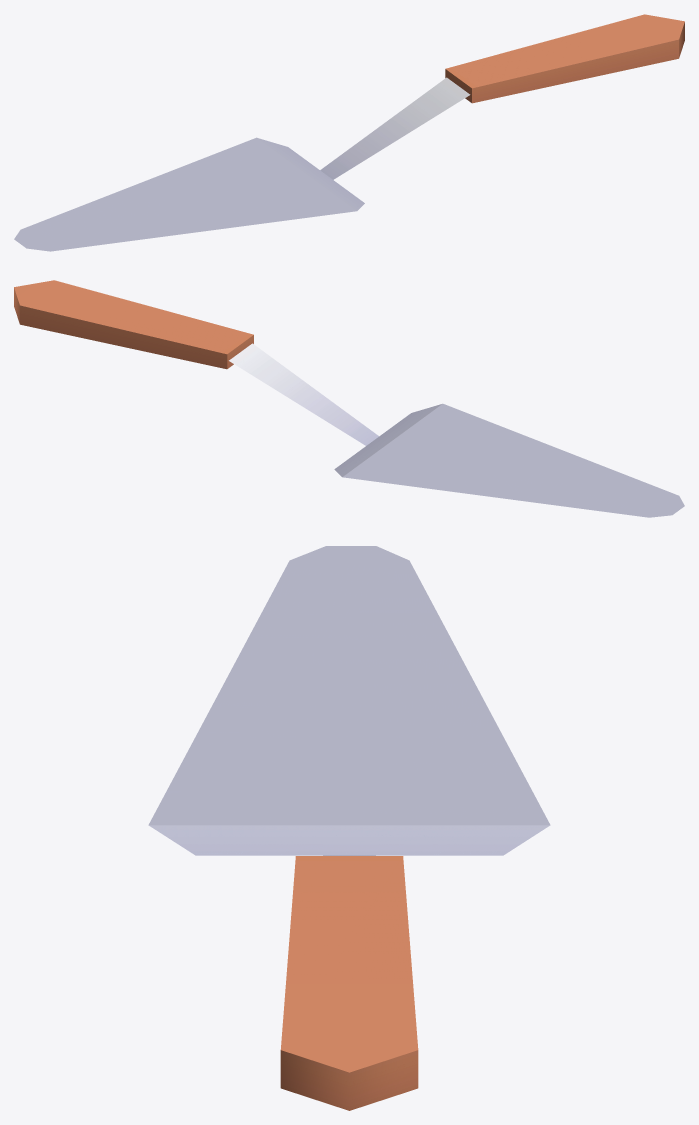
The model's file is cake-slicer.glb.
3 views of the same model, one above another, from view 1: azimuth 30°, elevation 25°; view 2: azimuth 150°, elevation 25°; view 3: azimuth 270°, elevation 25° (orthographic). The views are drawn at different scales.
Parts seen in each view (by area): view 1: cake-slicer; view 2: cake-slicer; view 3: cake-slicer.
Part boxes in pixels (<box>): cake-slicer: <box>14,14,684,251</box>; cake-slicer: <box>14,280,684,517</box>; cake-slicer: <box>148,546,550,1110</box>.
Bounding box in the file's own units: 0.7246 × 0.0692 × 0.19.
1 material, 1 textured.
